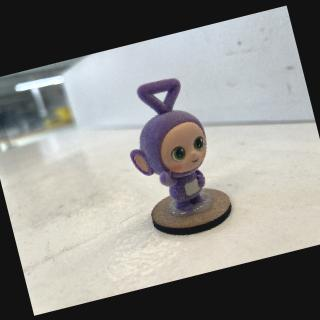teletubby: (130, 78, 206, 210)
